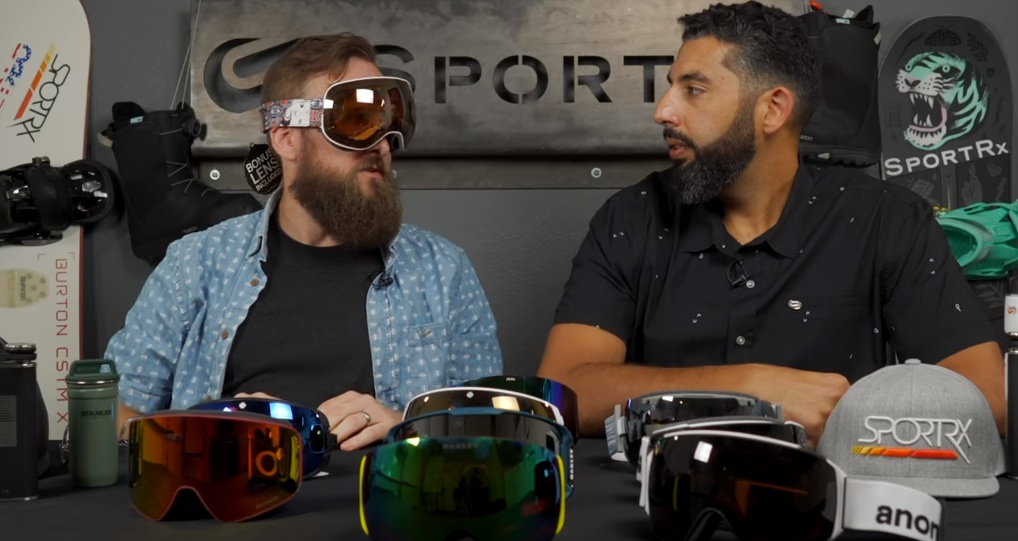mouth: (660, 136, 688, 159), (362, 166, 385, 177)
nose: (653, 107, 680, 127), (372, 141, 389, 154)
